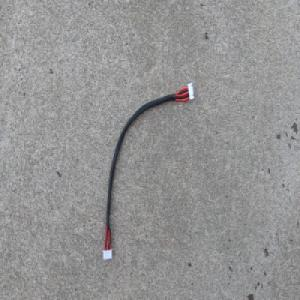Wire: (101, 79, 195, 261)
